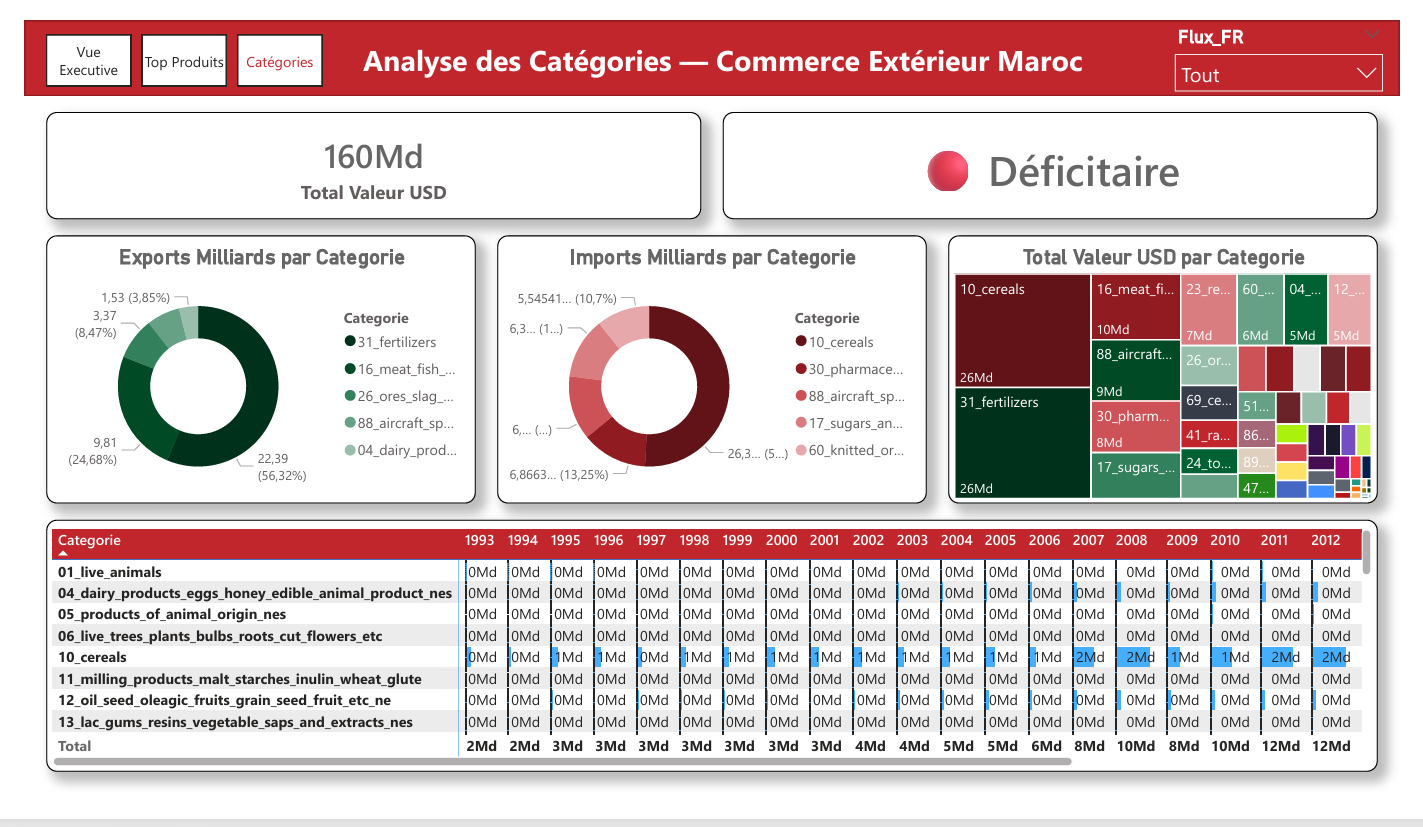

This screenshot's page, from the dashboard's own definition file:
{"tool":"powerbi","page":{"name":"Catégories","canvas":[1280,720],"ordinal":2},"visuals":[{"type":"shape","box":[0,0,1280.3,70.5],"z":0},{"type":"textbox","box":[219.7,13.1,860.7,60.7],"z":1000},{"type":"cardVisual","fields":{"Data":["Fact_Commerce.Total Valeur USD"]},"box":[20,85,610,100],"z":2000},{"type":"cardVisual","fields":{"Data":["Fact_Commerce.Deficit Ratio"]},"box":[650,85,610,100],"z":3000},{"type":"donutChart","fields":{"Category":["Dim_Categorie.Categorie"],"Y":["Fact_Commerce.Exports Milliards"]},"box":[20,200,400,250],"z":4000},{"type":"donutChart","fields":{"Category":["Dim_Categorie.Categorie"],"Y":["Fact_Commerce.Imports Milliards"]},"box":[440,200,400,250],"z":5000},{"type":"treemap","fields":{"Group":["Dim_Categorie.Categorie"],"Values":["Fact_Commerce.Total Valeur USD"]},"box":[860,200,400,250],"z":6000},{"type":"pivotTable","fields":{"Rows":["Dim_Categorie.Categorie"],"Columns":["Dim_Date.Annee"],"Values":["Fact_Commerce.Total Valeur USD"]},"box":[20,465,1240,235],"z":6001},{"type":"slicer","fields":{"Values":["Dim_Flux.Flux_FR"]},"box":[1060.7,0,214.8,70.5],"z":6002},{"type":"pageNavigator","box":[19.7,13.1,257.4,47.5],"z":6003}]}

Visuals, with their boxes on the page's 1280x720 design canvas (x1, y1, x2, y2). These are canvas units, not pixel positions in the 1423x827 screenshot, which may show the page scaled, cropped or inside an application window:
shape: box(0, 0, 1280, 70)
textbox: box(220, 13, 1080, 74)
cardVisual - Fact_Commerce.Total Valeur USD: box(20, 85, 630, 185)
cardVisual - Fact_Commerce.Deficit Ratio: box(650, 85, 1260, 185)
donutChart - Dim_Categorie.Categorie x Fact_Commerce.Exports Milliards: box(20, 200, 420, 450)
donutChart - Dim_Categorie.Categorie x Fact_Commerce.Imports Milliards: box(440, 200, 840, 450)
treemap - Dim_Categorie.Categorie x Fact_Commerce.Total Valeur USD: box(860, 200, 1260, 450)
pivotTable - Dim_Categorie.Categorie x Dim_Date.Annee: box(20, 465, 1260, 700)
slicer - Dim_Flux.Flux_FR: box(1061, 0, 1276, 70)
pageNavigator: box(20, 13, 277, 61)
